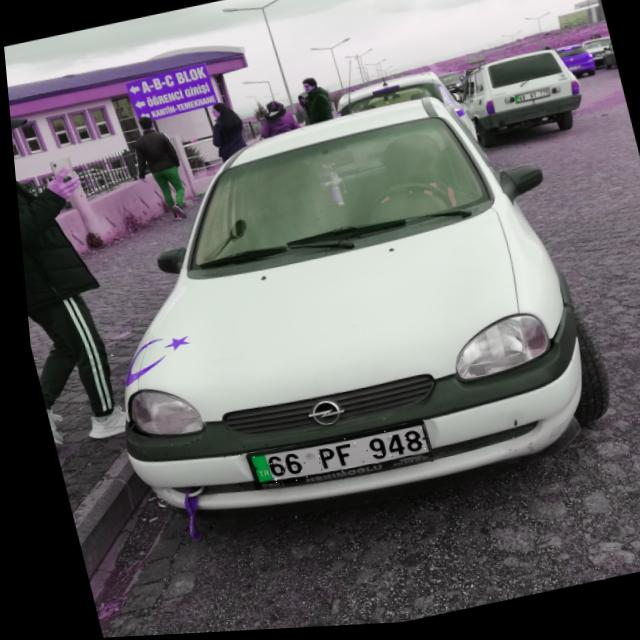license_plate: (237, 425, 425, 493)
